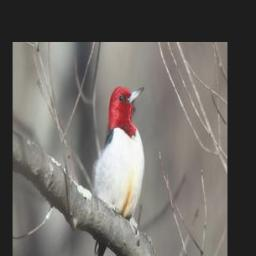Woodpecker: (91, 85, 148, 256)
